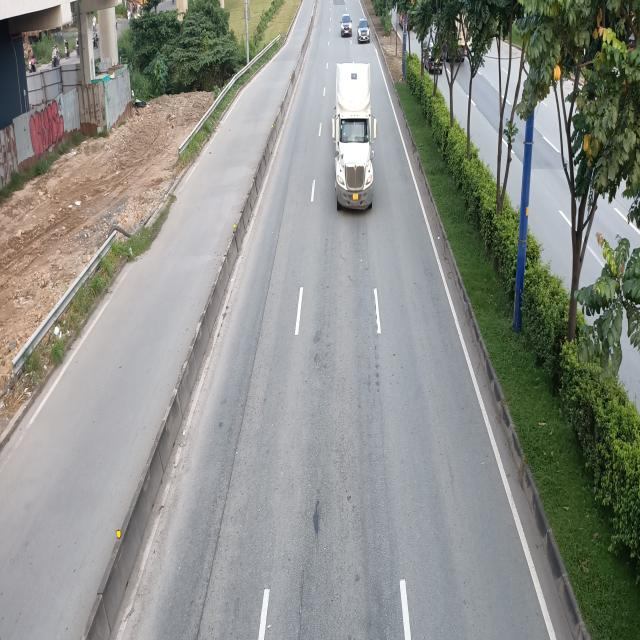car: (357, 19, 370, 43), (341, 13, 353, 38)
container: (332, 63, 377, 212)
